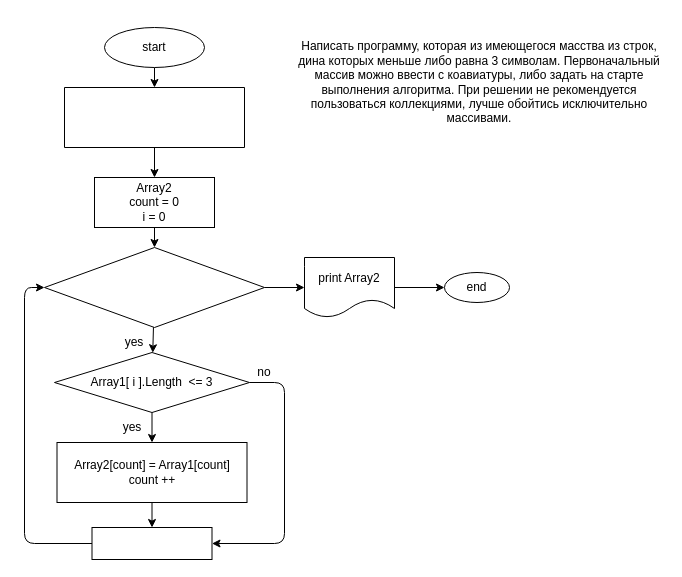
Image size: 682x577. Some labels were removed from this diagram. Here are the shapes that lost their labels. From the top down, the centre of each, then its label:
point 154,117: Array1 = {"hello", "2", "world", ":-)"}
point 154,287: i < Array1.Lehgth
point 151,543: i++
